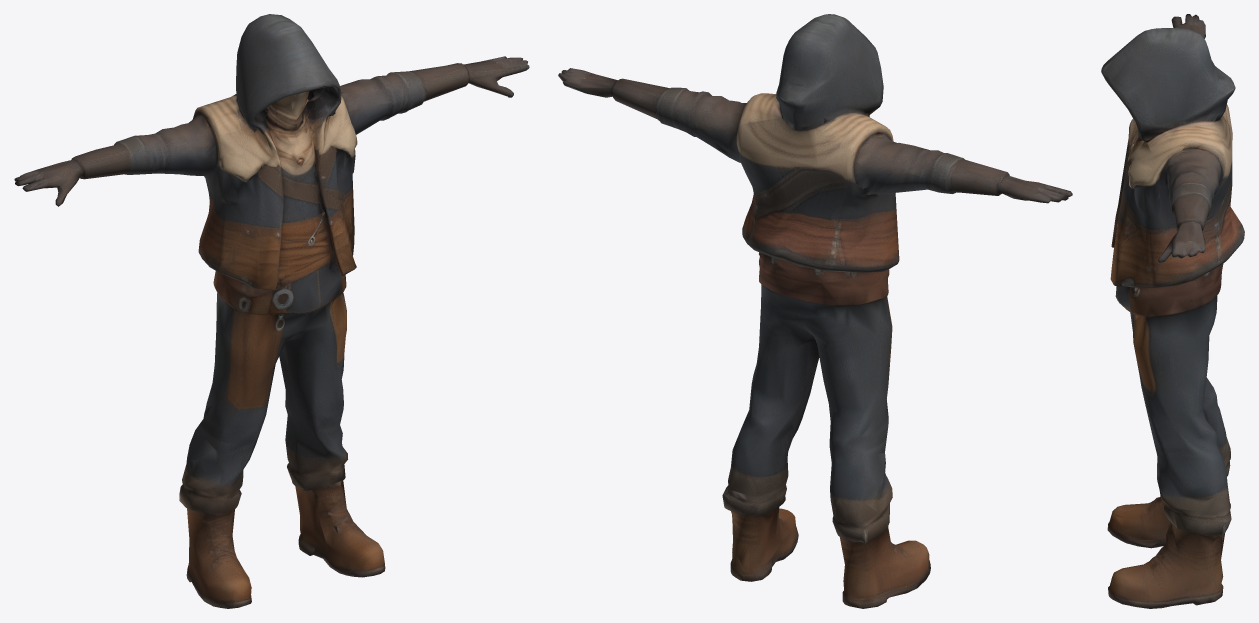
File: bandit.glb
3 views of the same model, side by side, from view 1: azimuth 30°, elevation 25°; view 2: azimuth 150°, elevation 25°; view 3: azimuth 270°, elevation 25° (orthographic). The views are drawn at different scales.
Bounding box in the file's own units: 1.93 × 2 × 0.4841.
Materials: 1 (1 with a texture image).
